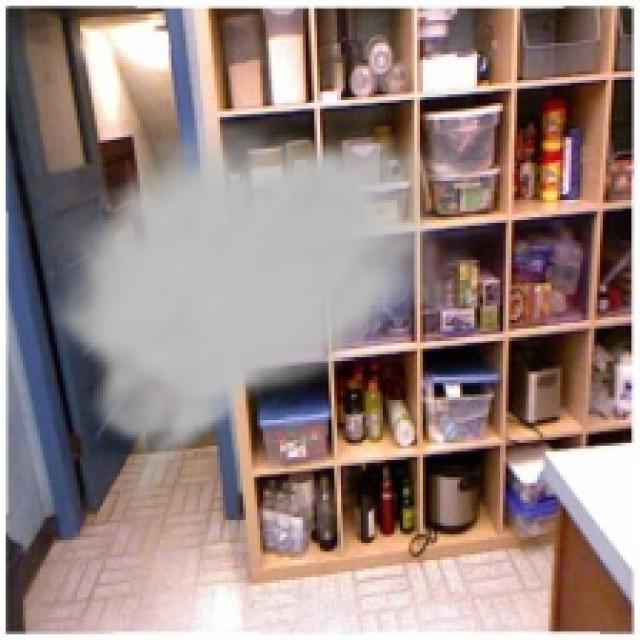Smoke: (40, 111, 466, 523)
